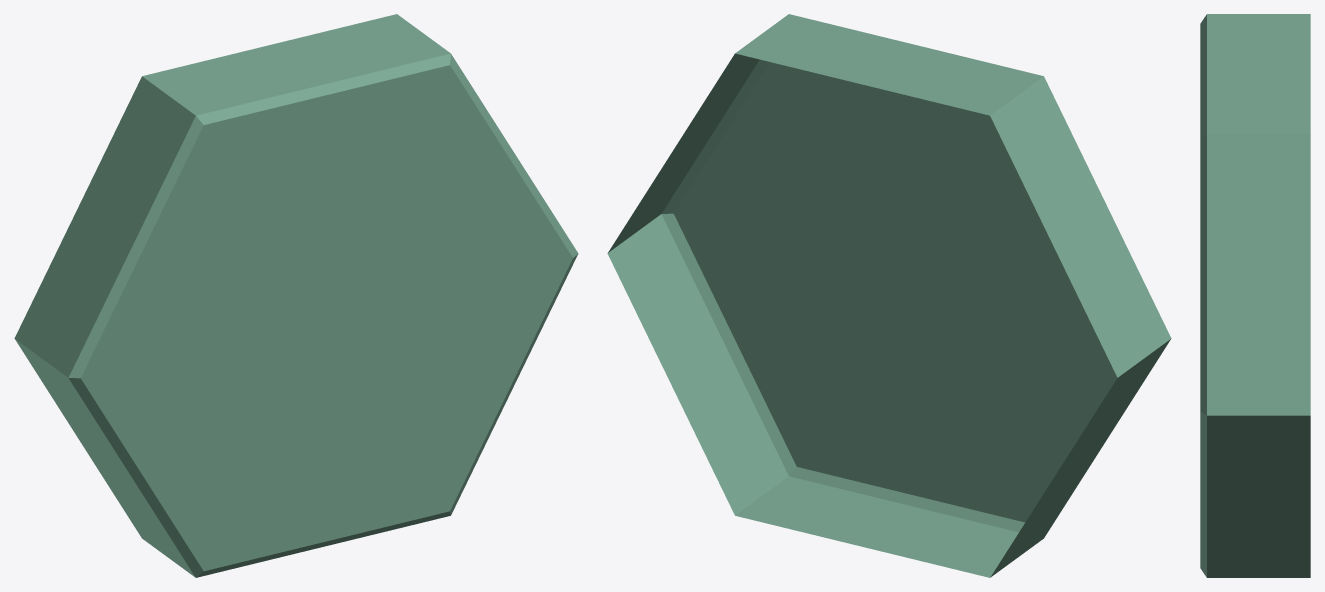
The model's file is sel2.fbx.
3 renders of one model, left to right at view 1: azimuth 30°, elevation 25°; view 2: azimuth 150°, elevation 25°; view 3: azimuth 270°, elevation 25°, orthographic. The views are drawn at different scales.
Visible parts, largest first — view 1: pCylinder1; view 2: pCylinder1; view 3: pCylinder1.
Boxes of the visible parts, <box> form: pCylinder1: <box>14,14,578,577</box>; pCylinder1: <box>607,14,1171,577</box>; pCylinder1: <box>1200,14,1310,577</box>.
Size of the model in its own units: 4.68 by 4.05 by 0.912.
